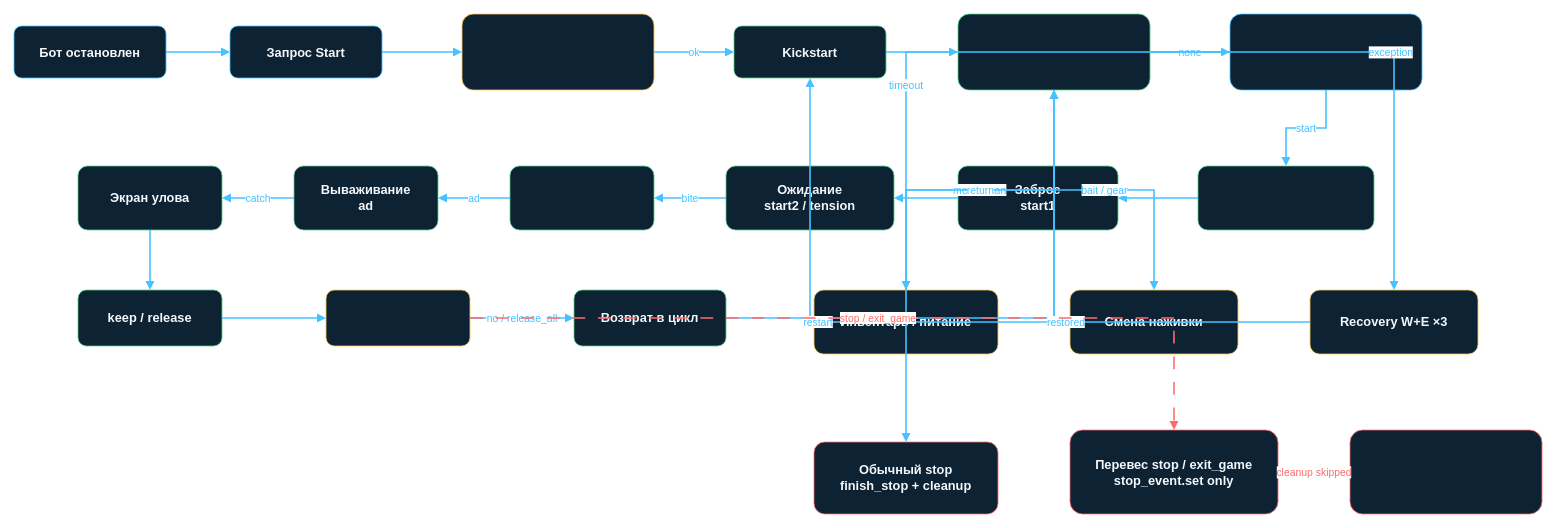
The diagram is 1556 pixels wide and 528 high, and some of its shapes have lost their labels. The shapes that lost their labels are listed below. From the top down, each one's centre as x and y in pixels, then its label:
the point at 557,51: Guard старта license + feature + window
the point at 1053,51: Brain loop screen trigger priority
the point at 1325,51: Свободно / no stage
the point at 581,197: Подсечка
the point at 1285,197: Выбор снастей start
the point at 397,317: Перевес?
the point at 1445,471: INVALID? thread off, running=true
